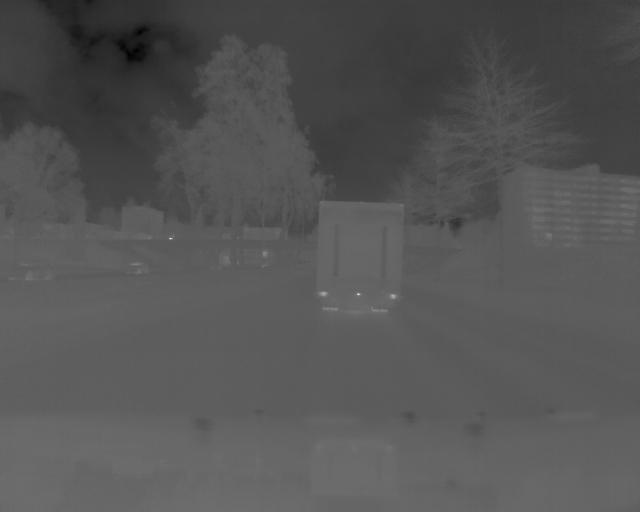car: (316, 197, 405, 316), (122, 260, 152, 277)
